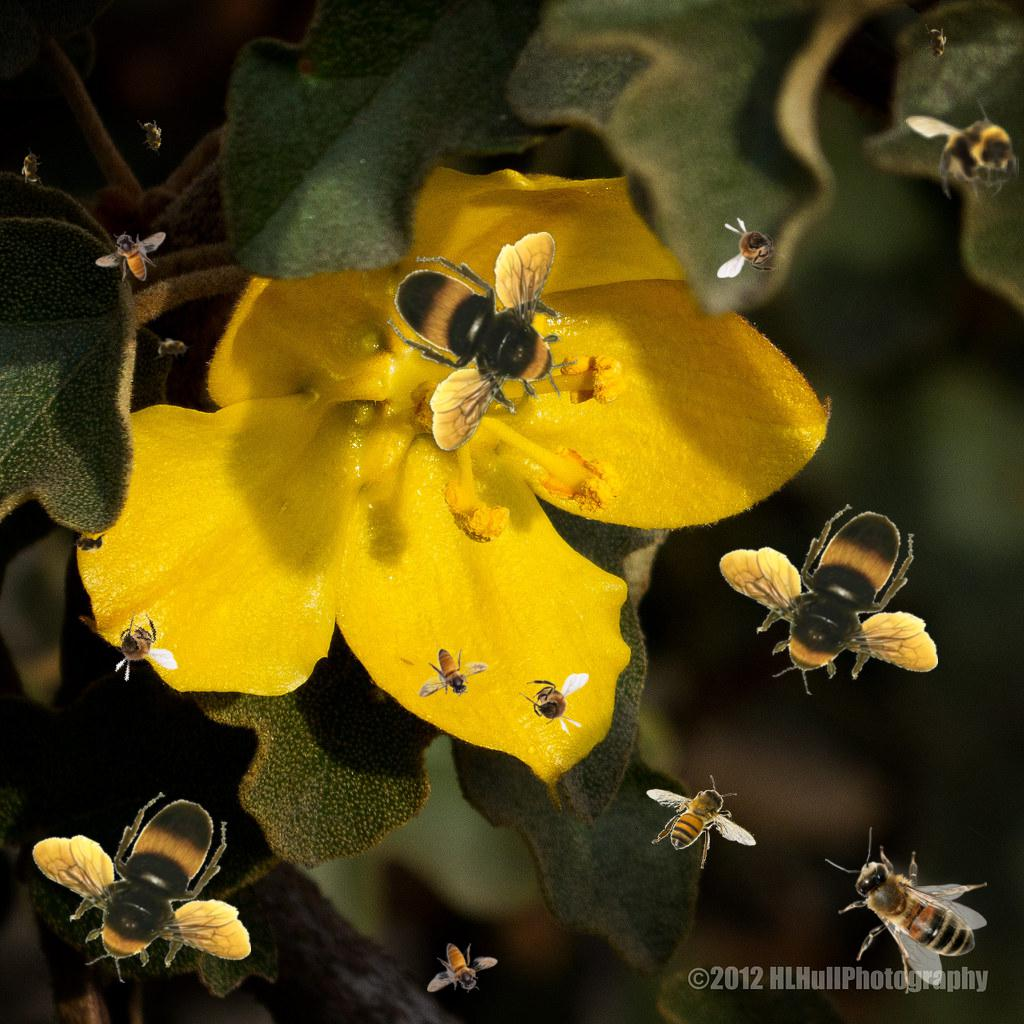Bee: (31, 792, 251, 983), (387, 232, 578, 452), (718, 504, 938, 695), (825, 827, 987, 994), (904, 95, 1019, 202), (646, 775, 757, 869), (96, 603, 179, 691), (519, 673, 589, 734), (717, 217, 787, 278), (95, 231, 166, 281), (418, 648, 489, 698), (427, 943, 498, 993), (136, 115, 168, 159), (21, 147, 43, 187), (69, 532, 109, 554), (925, 24, 947, 64), (153, 338, 193, 360)
